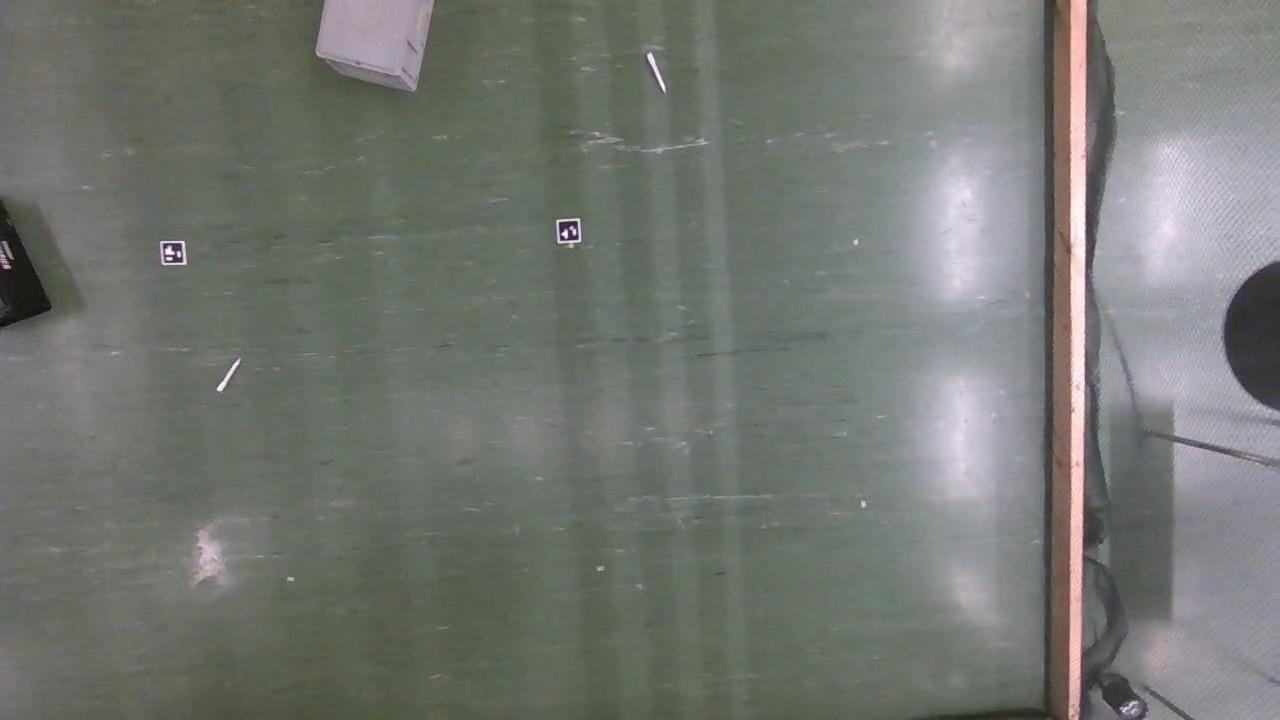probes: (215, 357, 240, 394), (645, 51, 665, 93)
rako: (315, 0, 438, 97)
